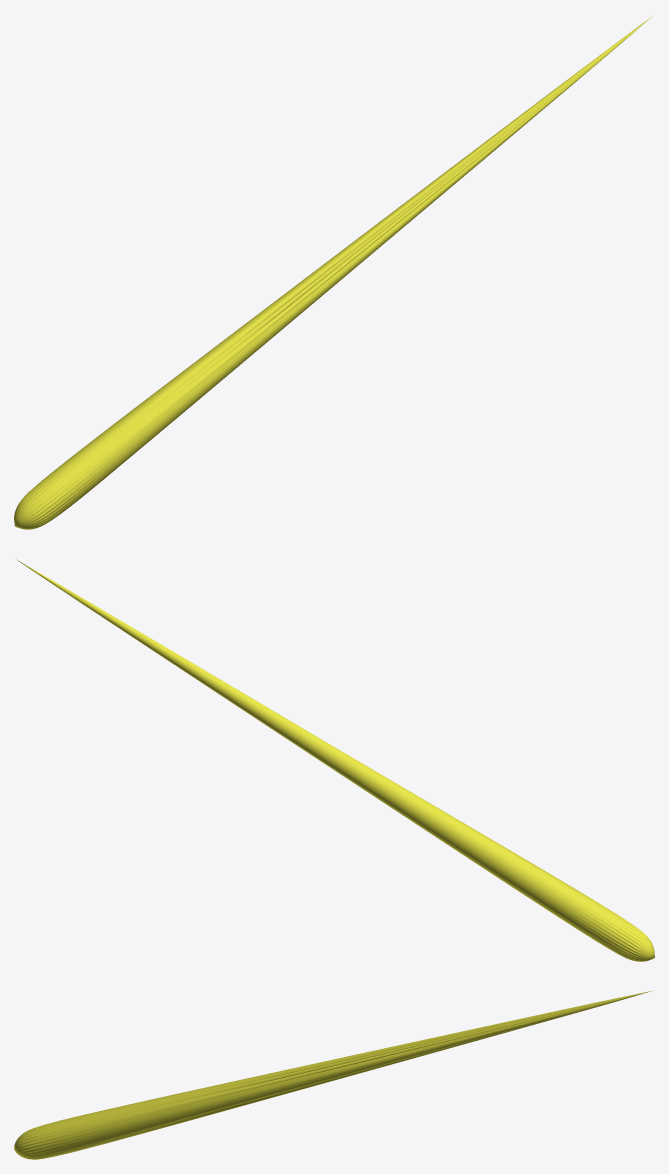
The model's file is newmete.fbx.
The picture shows the model from 3 angles, top to bottom: view 1: azimuth 30°, elevation 25°; view 2: azimuth 150°, elevation 25°; view 3: azimuth 330°, elevation 25°; orthographic projection. The views are drawn at different scales.
Parts seen in each view (by area): view 1: Cylinder; view 2: Cylinder; view 3: Cylinder.
Boxes of the visible parts, bbox=[...] form: Cylinder: bbox=[14, 15, 653, 529]; Cylinder: bbox=[16, 559, 654, 961]; Cylinder: bbox=[14, 991, 651, 1159].
Size of the model in its own units: 1438 by 648 by 179.
